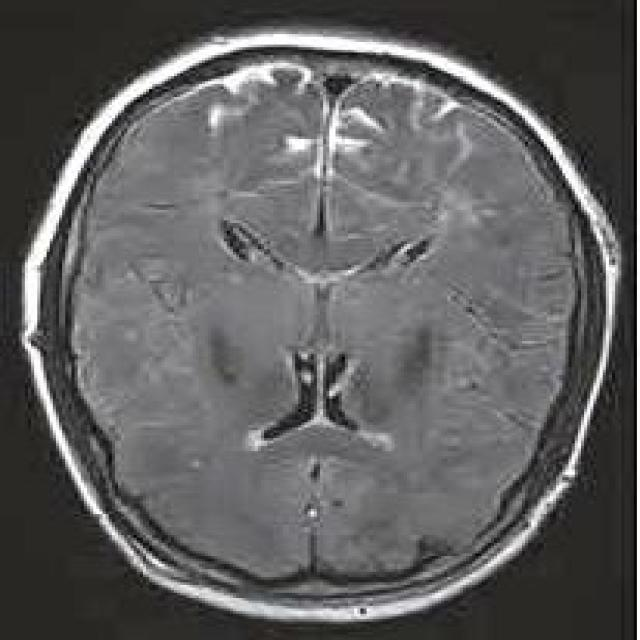notumor: (22, 29, 618, 624)
